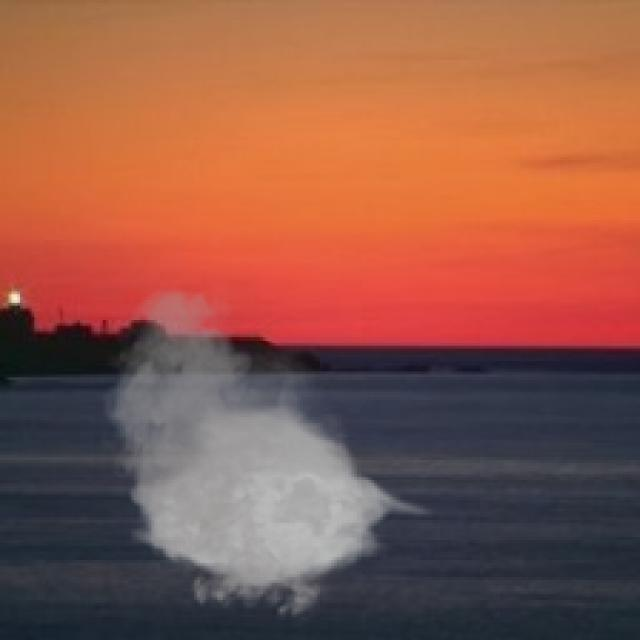smoke: (94, 283, 437, 628)
